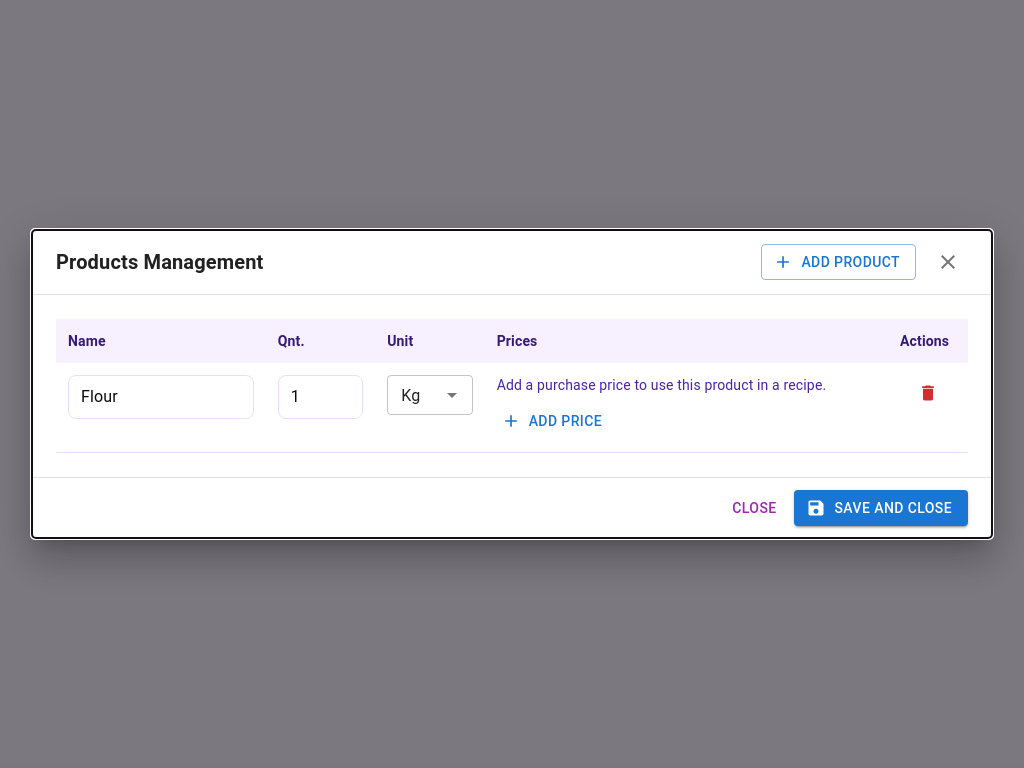
Test case: ProductsModal › keeps the draft open and reports a storage failure
Replace the text in the field named "Name" with "Rice flour" at (161, 397), box [68,375,254,419]
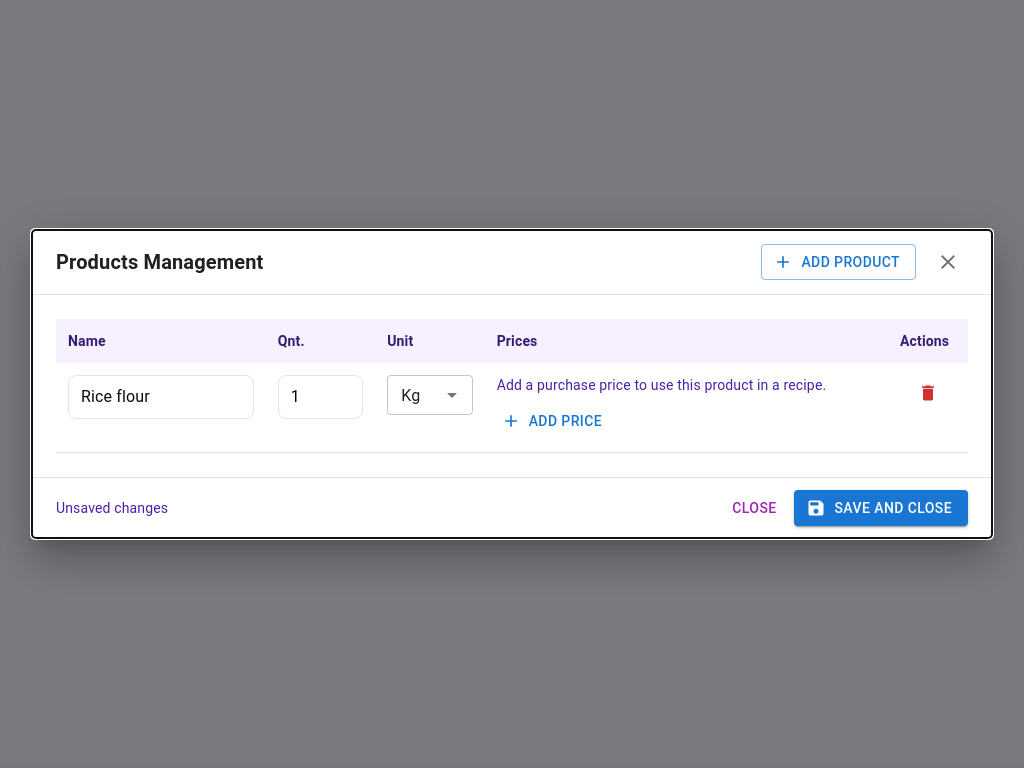
Click the button "Save and close" at (881, 508), box [794,490,968,526]
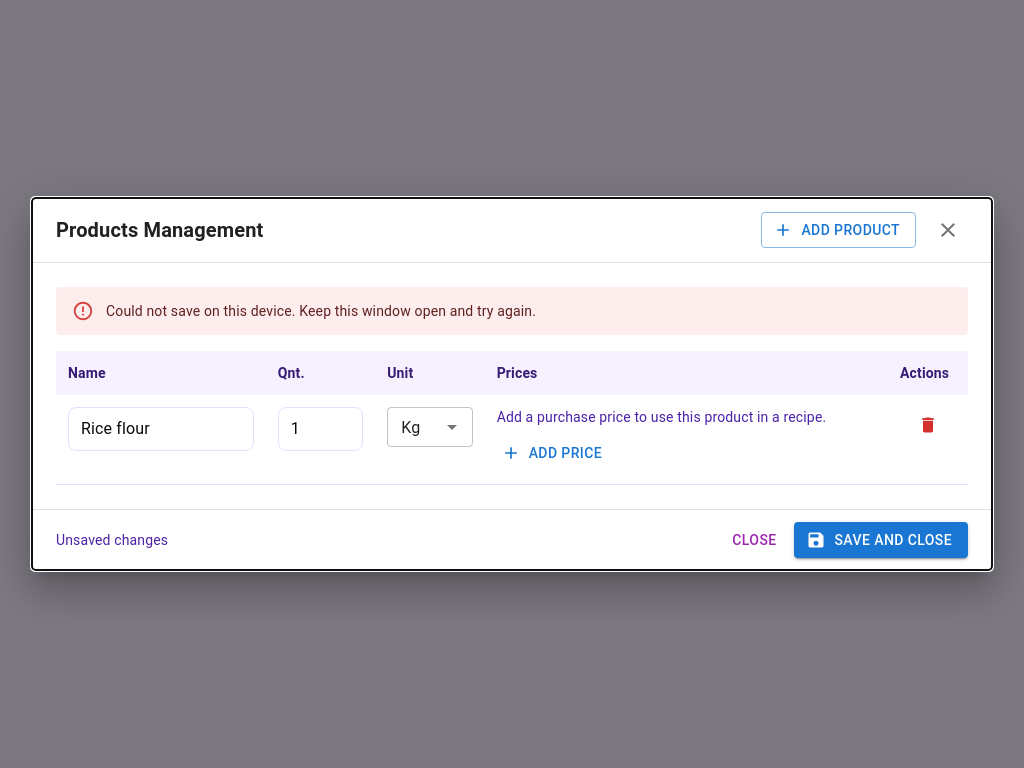
Result: the message "Could not save on this device. Keep this window open and try again." is shown at [56,287,968,335]
